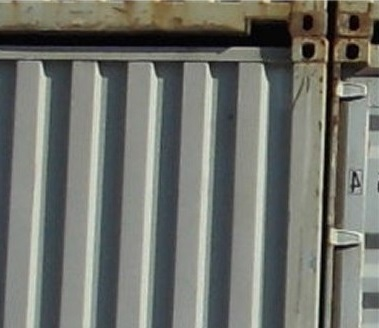container_no_door: (4, 42, 328, 328)
